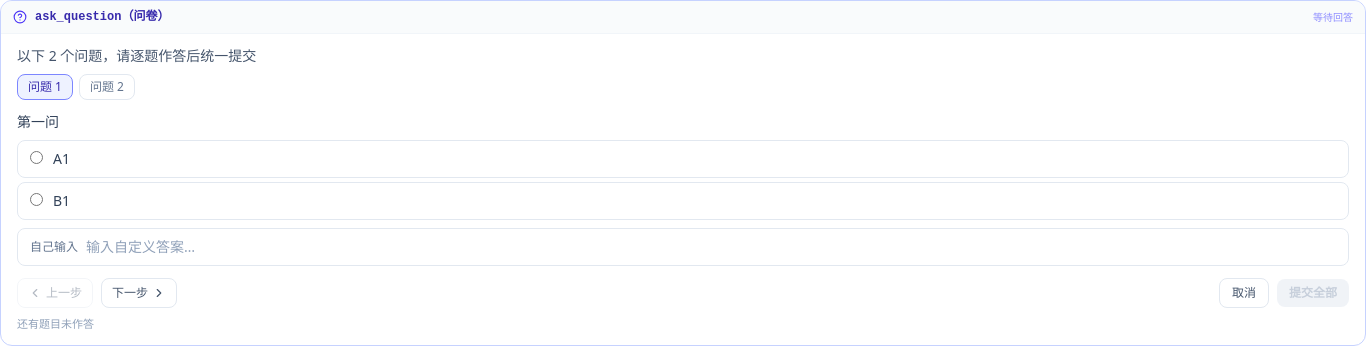
Test: AskQuestionCard 待回答表单 › 问卷自动跳题：答完单选后 220ms 自动切换到下一题
Click the radio button labelled "A1" at (36, 158), box [30,151,43,164]
Wait 220 ms
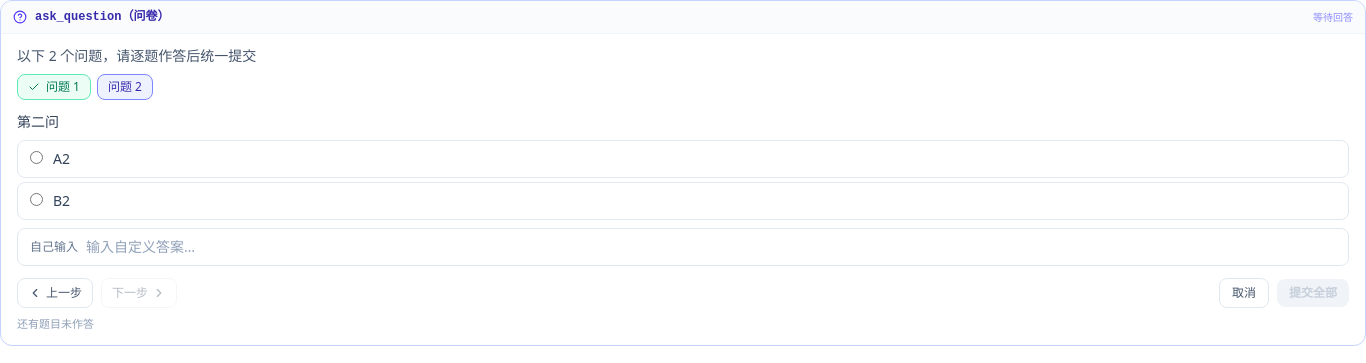
Now the text "A2" is shown, box [53,149,70,169]
Now the text "A1" is gone
